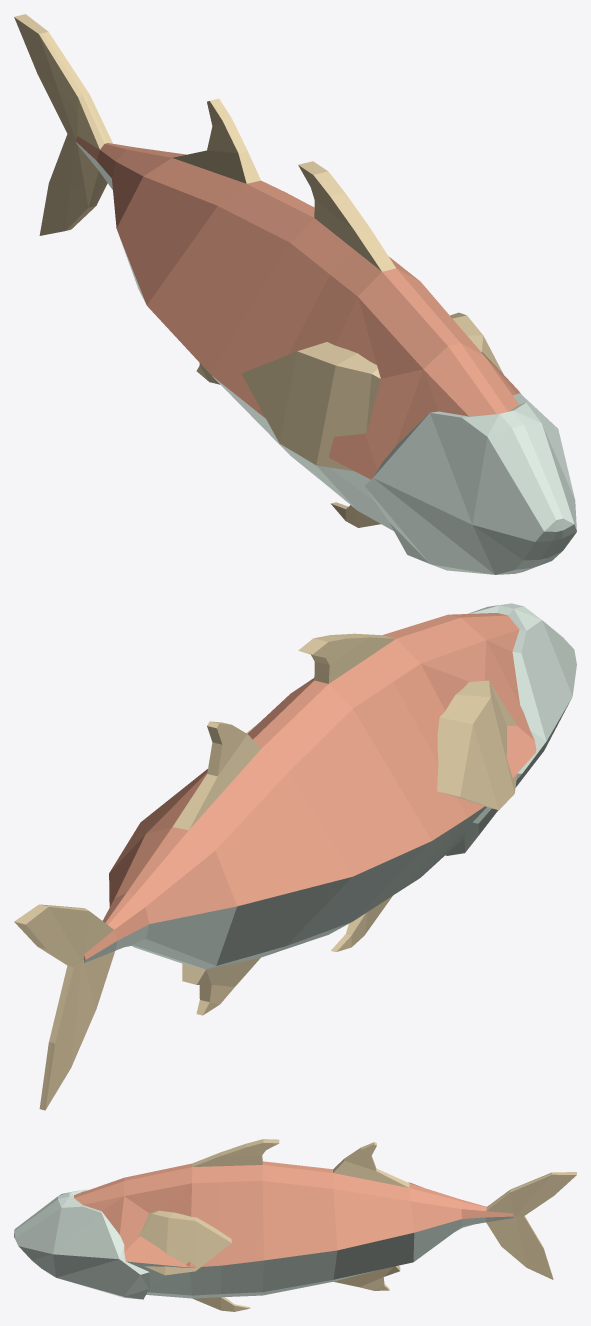
The model's file is fishe.glb.
3 renders of one model, top to bottom at view 1: azimuth 30°, elevation 25°; view 2: azimuth 150°, elevation 25°; view 3: azimuth 270°, elevation 25°, orthographic. The views are drawn at different scales.
Parts seen in each view (by area): view 1: Fish; view 2: Fish; view 3: Fish.
Boxes of the visible parts, x1=… form: Fish: x1=14, y1=14, x2=576, y2=574; Fish: x1=14, y1=603, x2=576, y2=1110; Fish: x1=14, y1=1139, x2=576, y2=1311.
Bounding box in the file's own units: 0.2487 × 0.3398 × 1.02.
